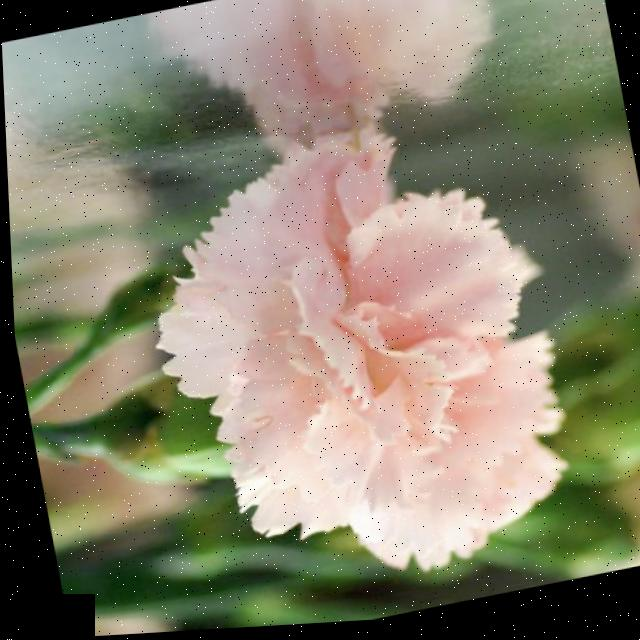carnation: (124, 99, 589, 619)
